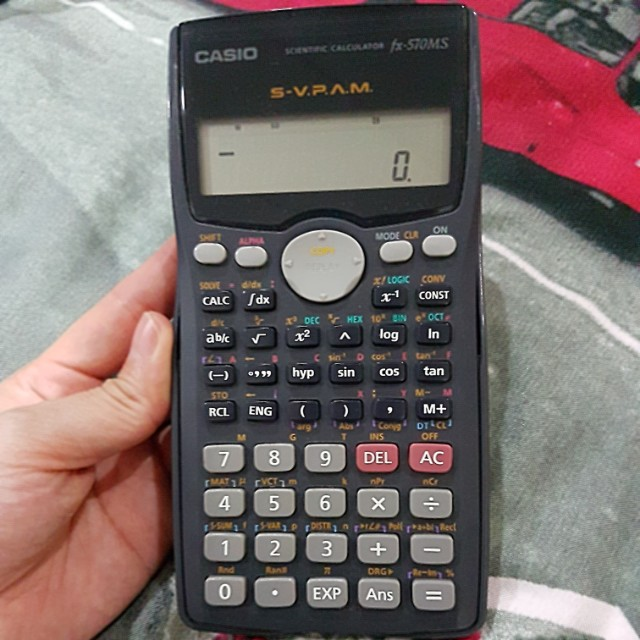Calculator: (163, 5, 495, 636)
